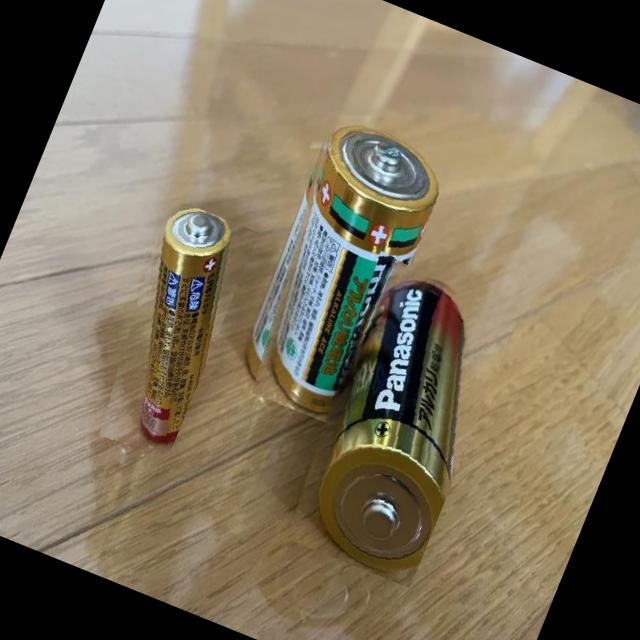Hazard: (267, 251, 522, 588), (222, 102, 458, 430), (75, 196, 259, 463)
